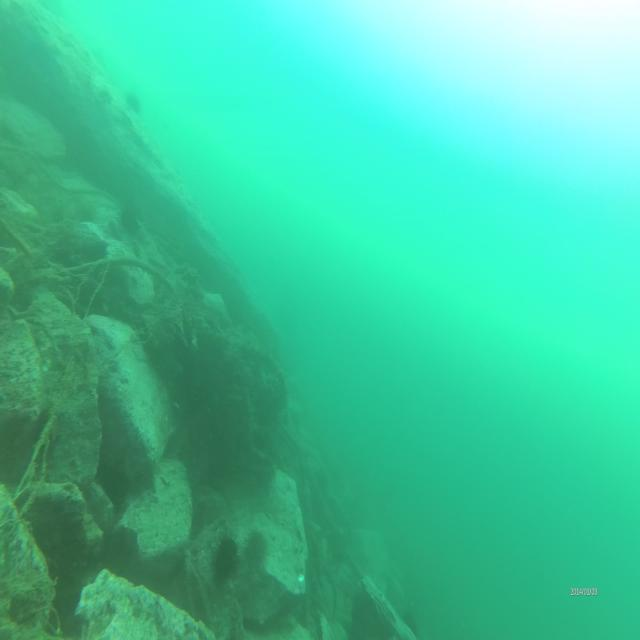echinus: (211, 525, 240, 591), (243, 522, 269, 570), (400, 606, 423, 640), (119, 203, 140, 237), (124, 89, 144, 120)
